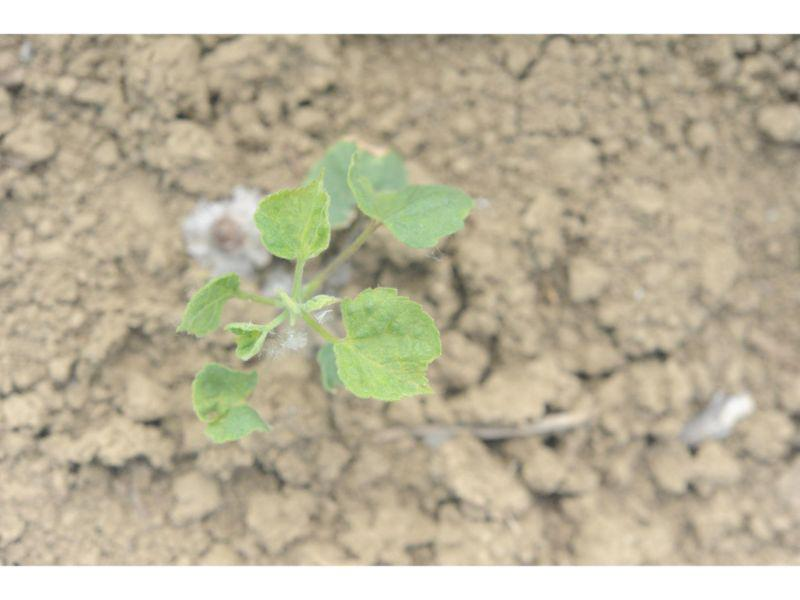velvet: (183, 138, 471, 445)
